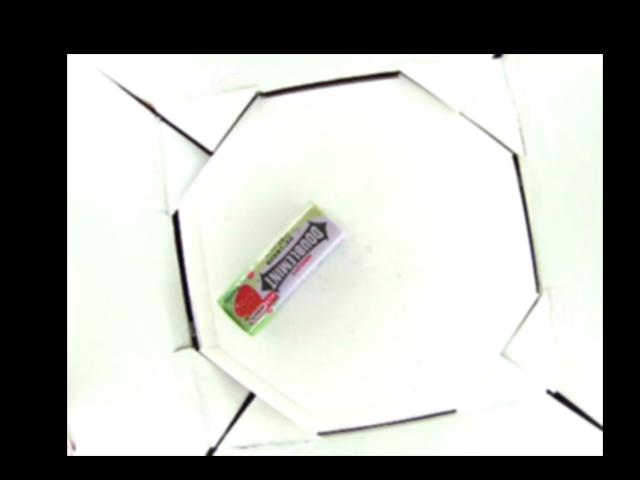Bottle: (217, 199, 345, 339)
